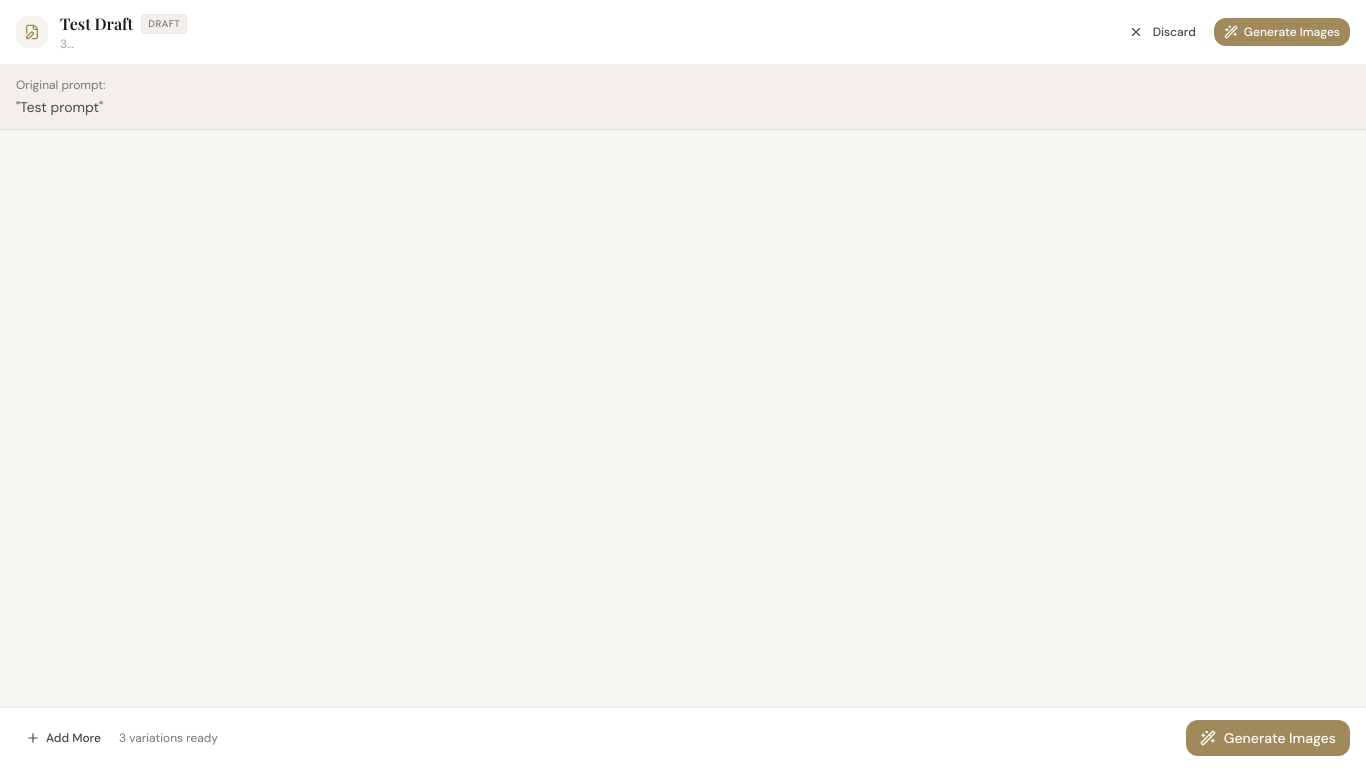
Scenario: DraftVariationsView › Issue #34: Variation selection and deletion › should show selection bar when selection mode is active
# Click to enter selection mode
Click the button titled "Select variations to delete": (32, 32) [16, 16, 48, 48]
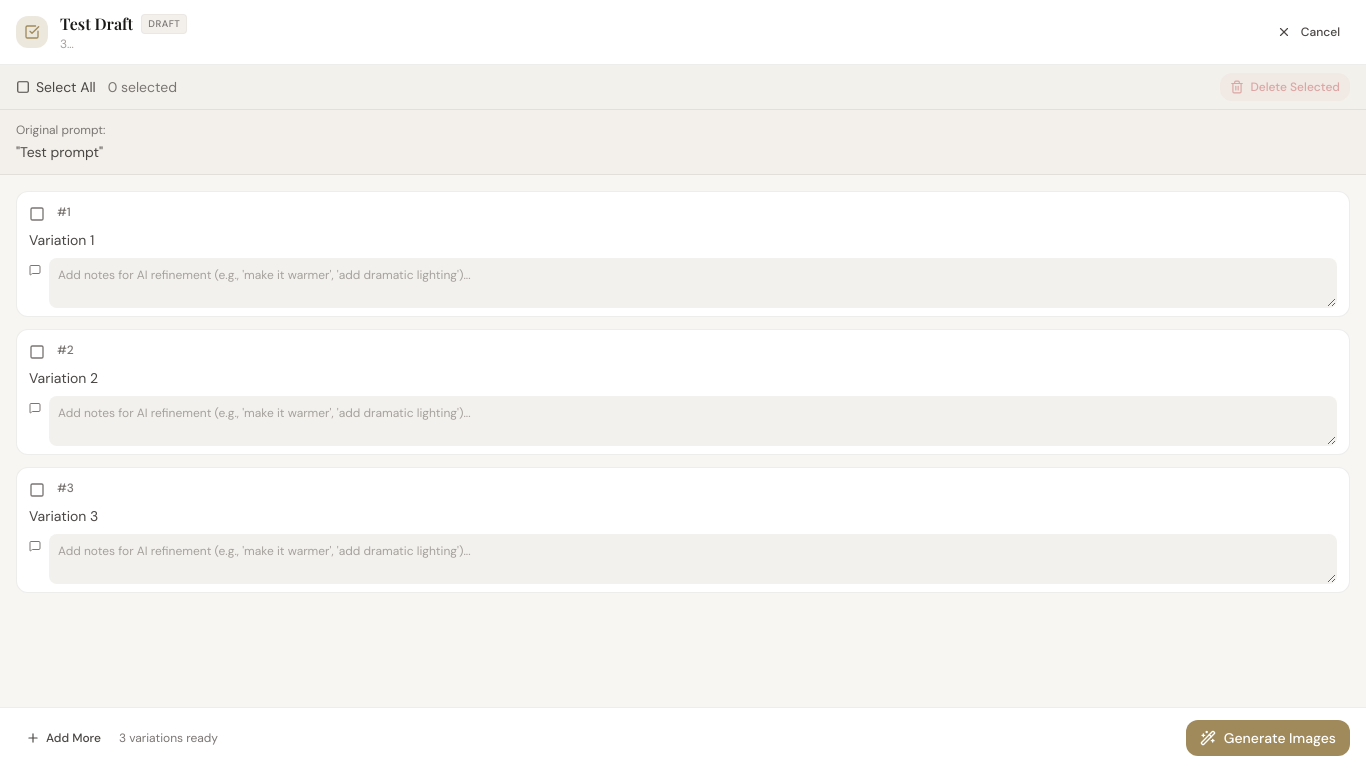
Expected: the button "Select All" is shown, [16, 77, 96, 97]
Expected: the text "0 selected" is shown, [108, 77, 177, 97]
Expected: the button "Delete Selected" is shown, [1220, 73, 1350, 101]
